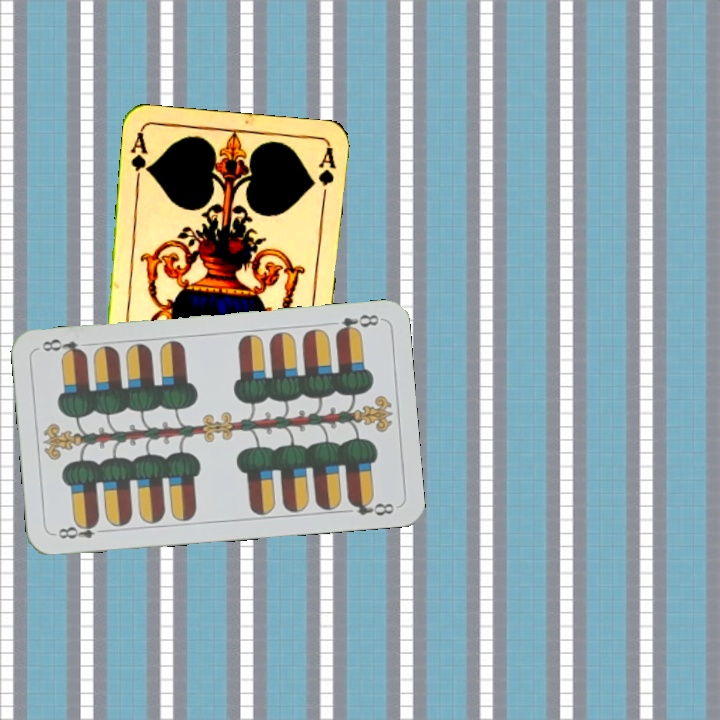E8: (331, 310, 381, 337), (54, 517, 110, 541)
GA: (127, 128, 153, 188)
